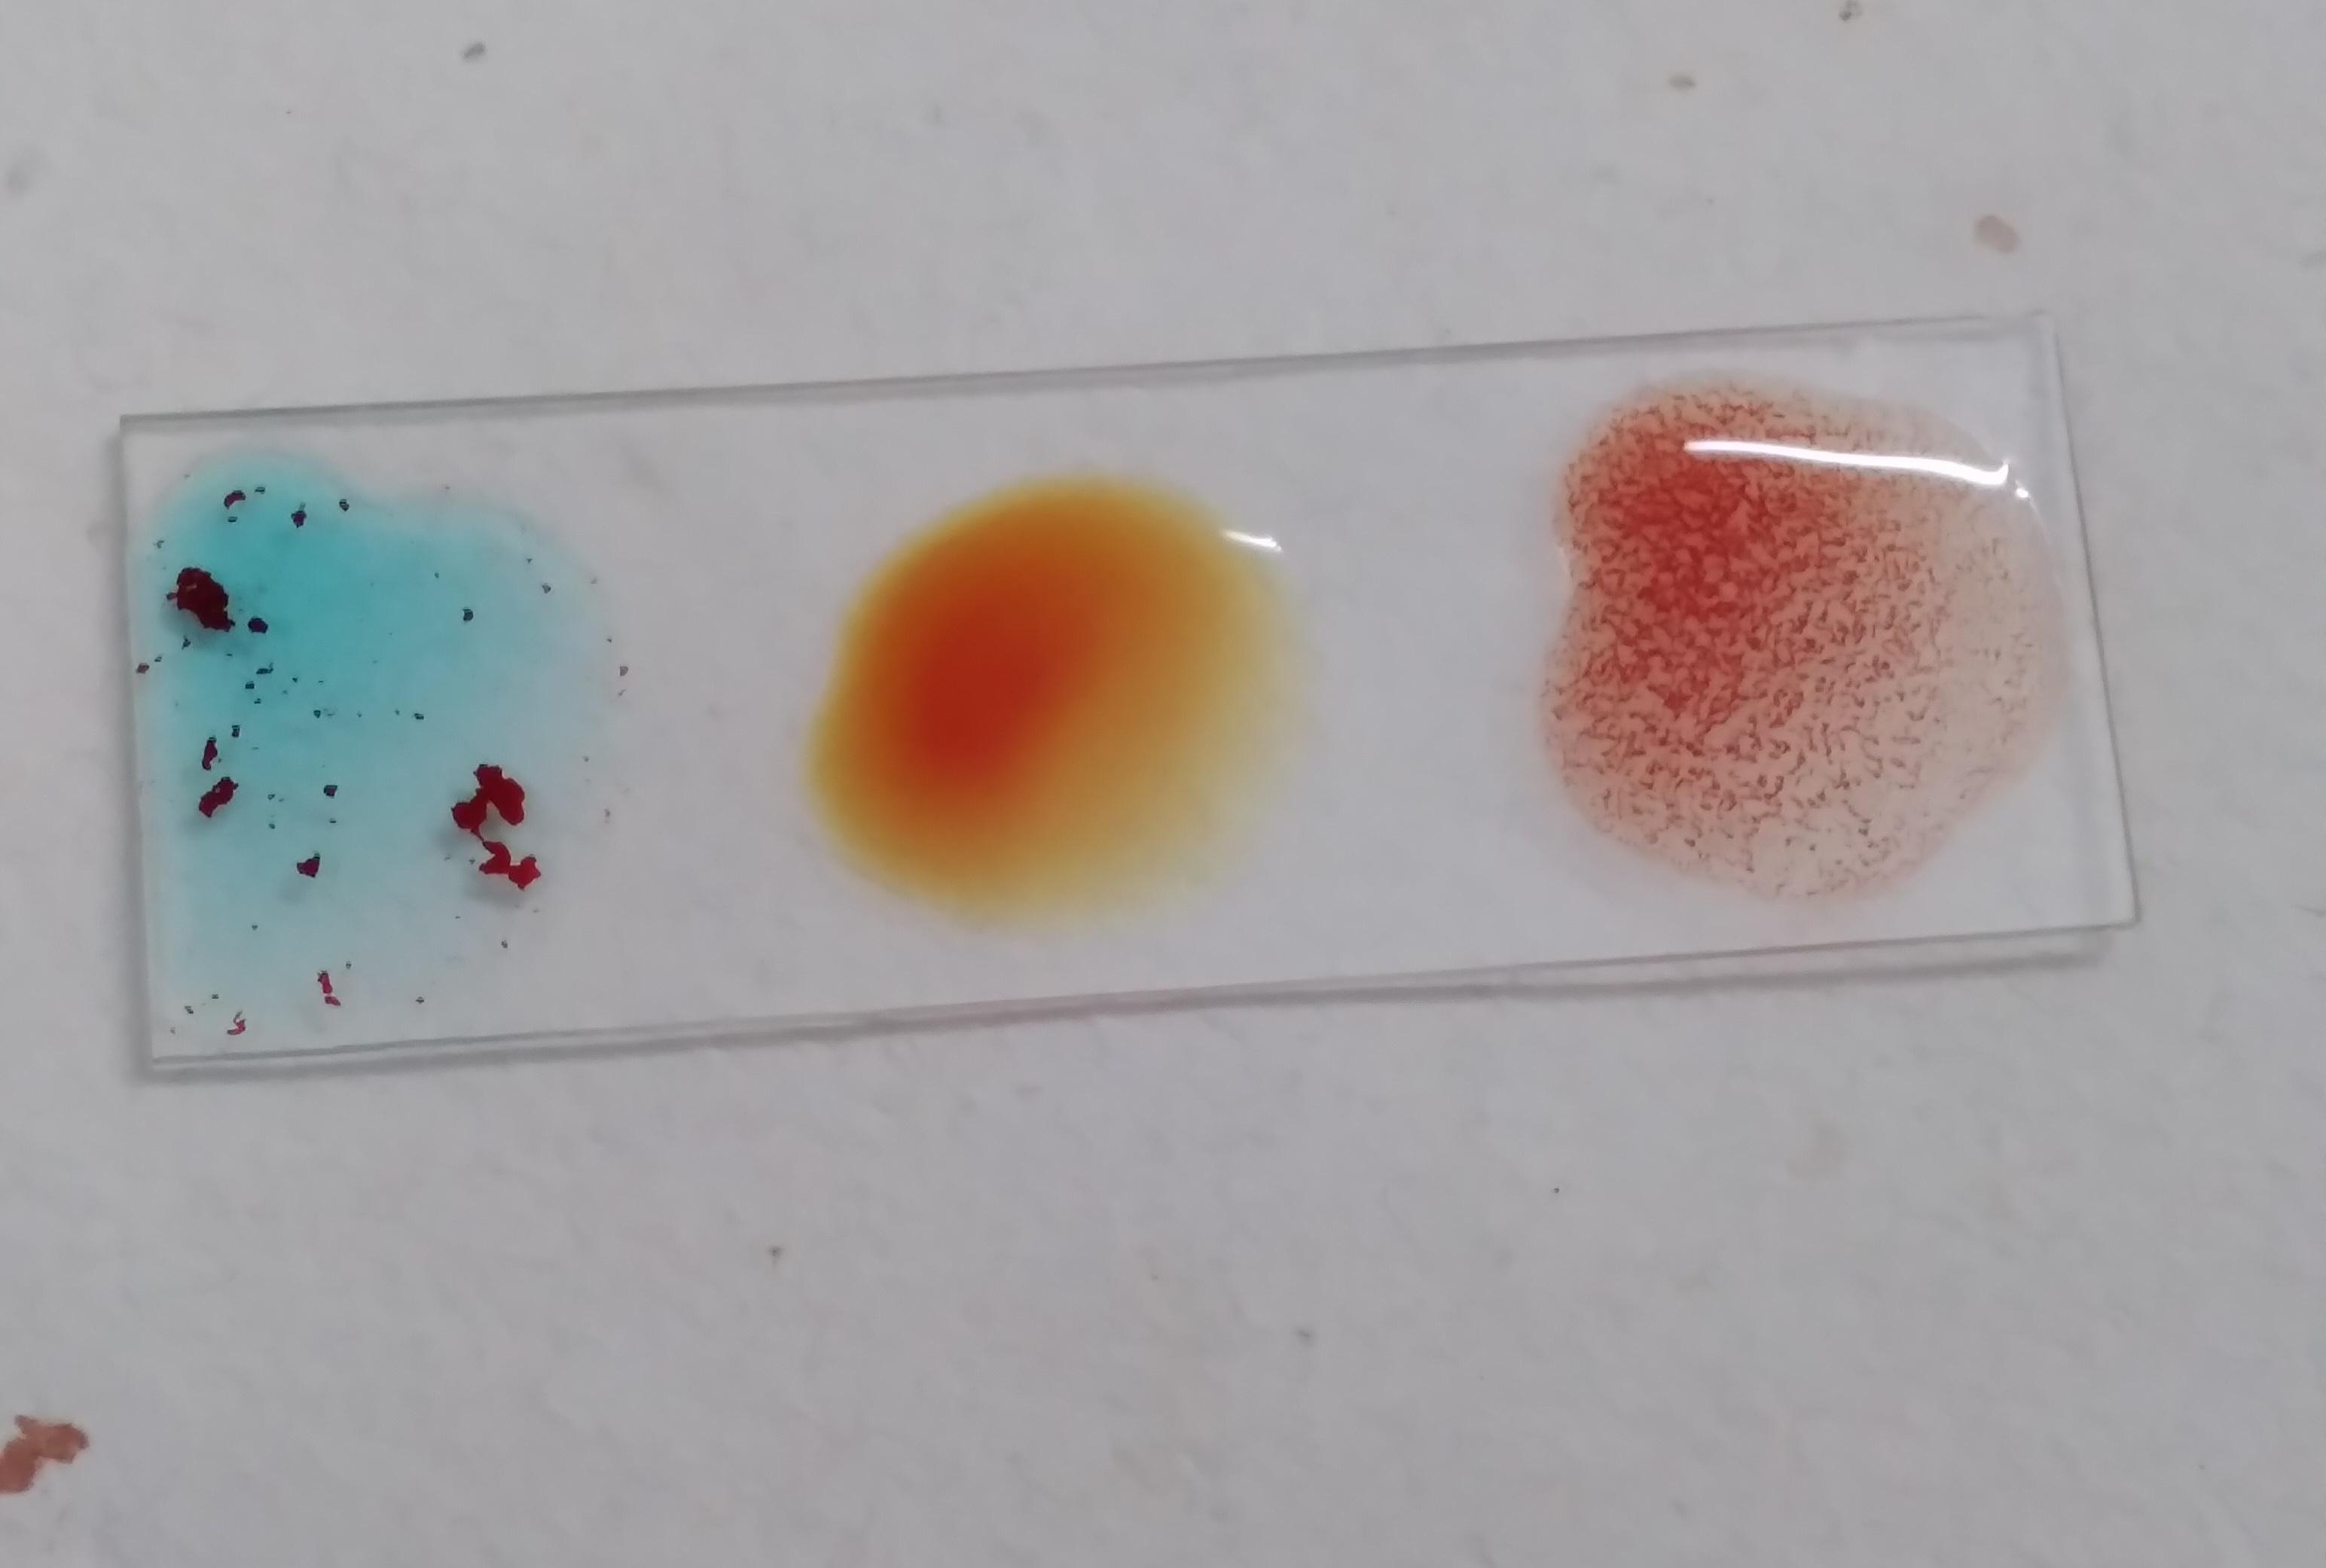A: (140, 483, 585, 1004)
D: (1563, 388, 2042, 901)
